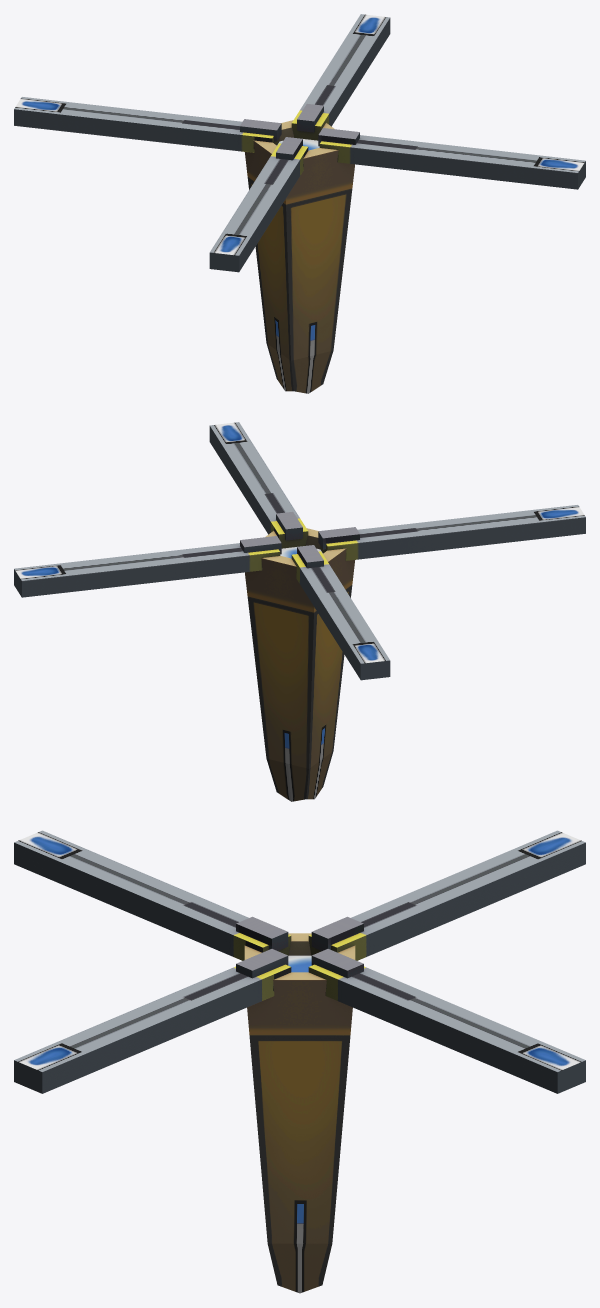
File: trap_491_xbtwal.fbx
3 views of the same model, one above another, from view 1: azimuth 30°, elevation 25°; view 2: azimuth 150°, elevation 25°; view 3: azimuth 270°, elevation 25° (orthographic). The views are drawn at different scales.
Parts seen in each view (by area): view 1: trap_491_xbtwal; view 2: trap_491_xbtwal; view 3: trap_491_xbtwal.
Boxes of the visible parts, x1,y1,x2,y2 form: trap_491_xbtwal: (14,14,585,393); trap_491_xbtwal: (14,422,585,801); trap_491_xbtwal: (14,830,585,1293).
Size of the model in its own units: 0.7656 by 0.5025 by 0.7656.
1 material, 1 textured.
